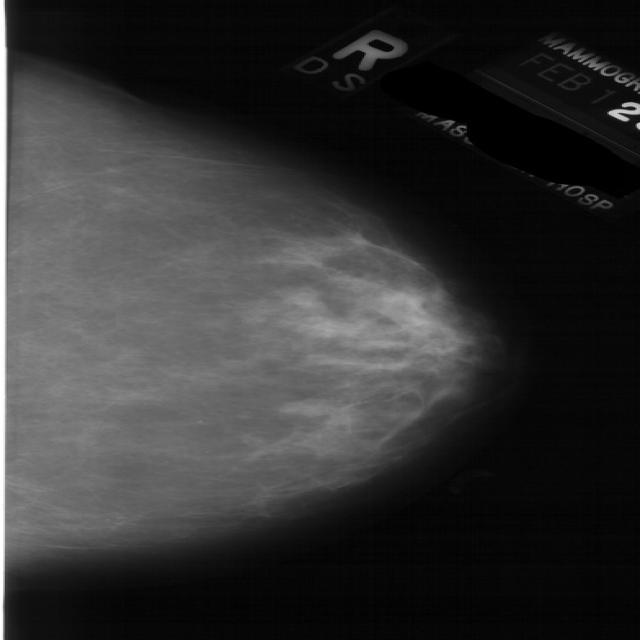tumour: (274, 398, 348, 417)
